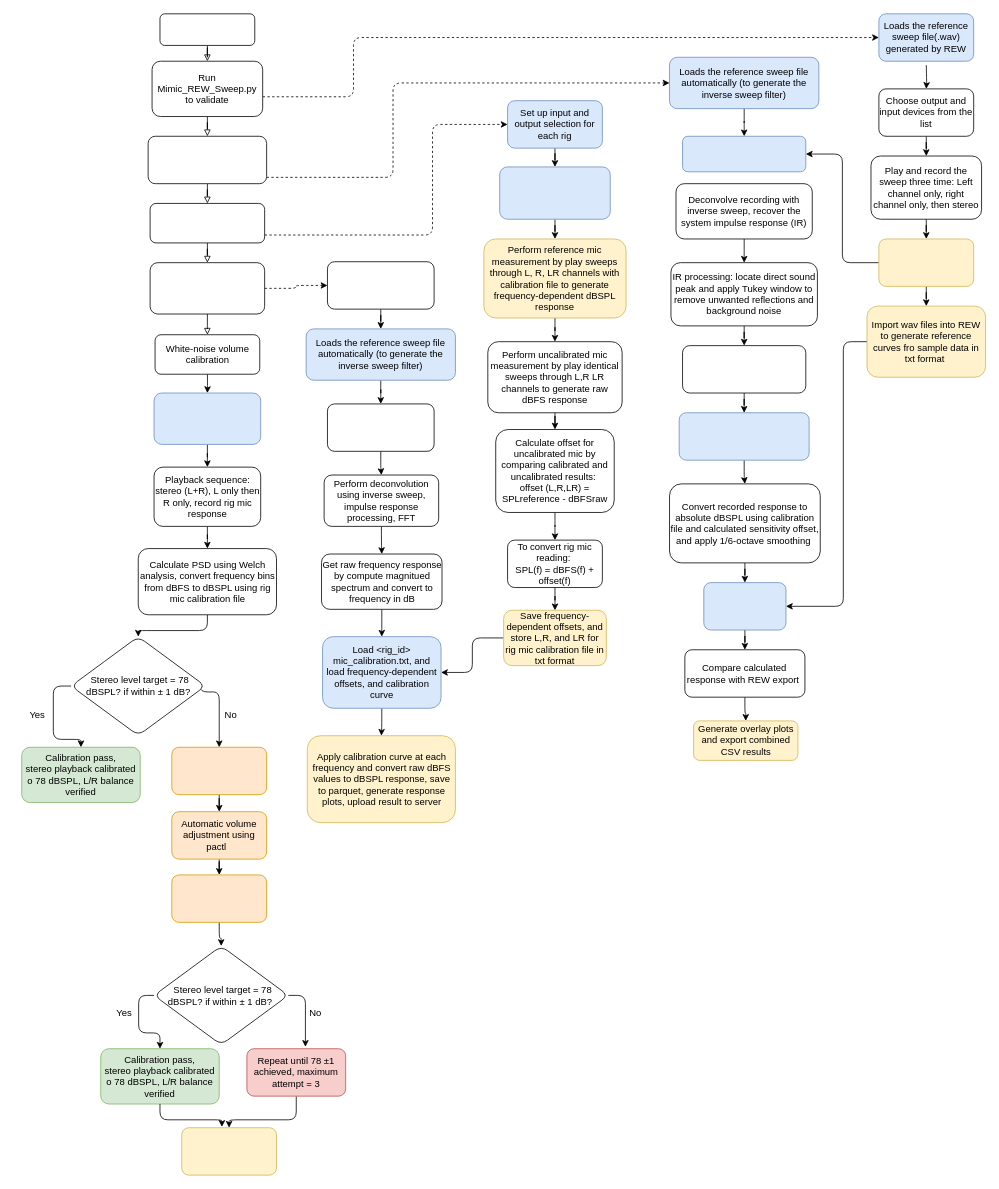
The diagram is 999 pixels wide and 1189 high, and some of its shapes have lost their labels. Here are the shapes that lost their labels. From the top down, the centre of each, then its label:
At [207,29]: "Start".
At [207,159]: "Run Mimic_REW_analysis.py to validate".
At [744,153]: "Loads the captured recordings (.wav) from data".
At [554,192]: "Load reference UMIK calibration file along with sensitivity information".
At [207,223]: "Run calibrate_mic.py once when installing rig".
At [926,262]: "Writes three recordings to data file in wav format".
At [207,288]: "Rig automatically run calibrate_speaker.py on daily basis".
At [380,285]: "Set up input and output device, specify rig id".
At [744,369]: "Perform FFT on the windowed IR, convert magnitude spectrum to dB.".
At [207,418]: "Generate white-noise stimulus that match the MATLAB playback behaviour".
At [380,427]: "Play sweep through speakers (L, R and LR), record with rig mic".
At [743,436]: "Loads the UMIK-1 (calibrated mic) calibration file".
At [744,606]: "Loads the REW analysed txt file".
At [219,770]: "Calculate error".
At [219,898]: "Replay white-noise sequence".
At [228,1151]: "Result will be logged to database".
